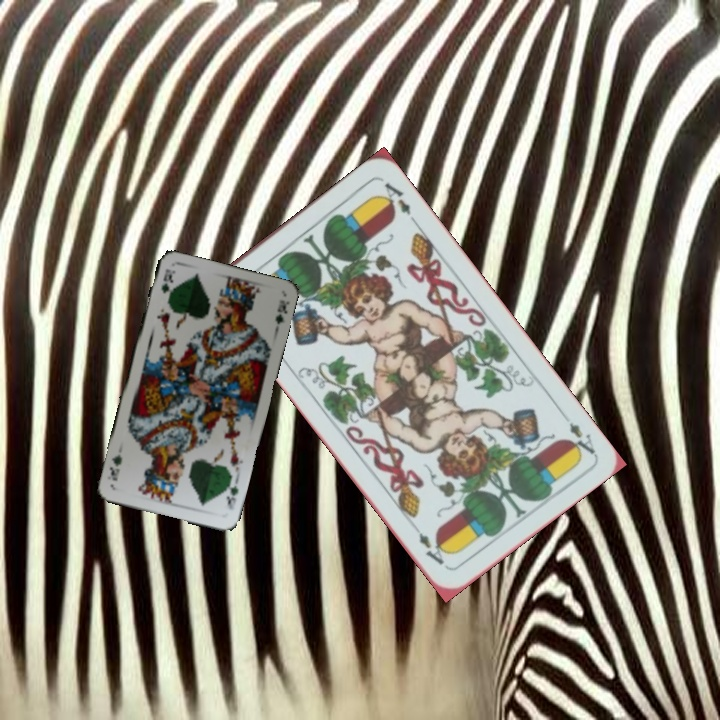EA: (564, 418, 599, 460)
GK: (222, 475, 241, 512), (157, 265, 175, 296)
